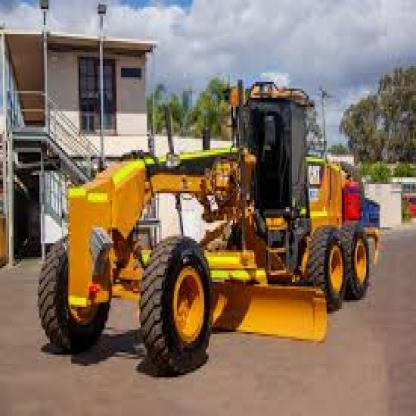bull_dozer/loader/grader: (32, 73, 381, 391)
